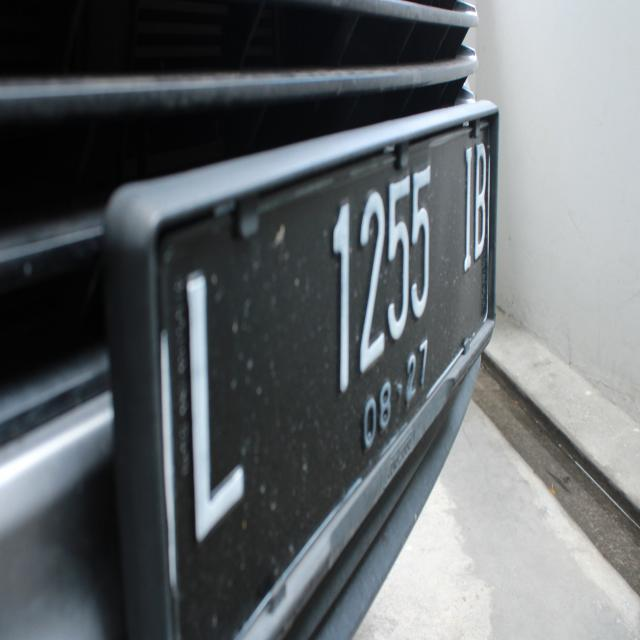1: (310, 192, 360, 392)
2: (353, 176, 391, 372)
5: (380, 166, 418, 342), (404, 159, 440, 321)
B: (468, 131, 492, 265)
I: (456, 132, 476, 278)
L: (165, 253, 258, 533)
